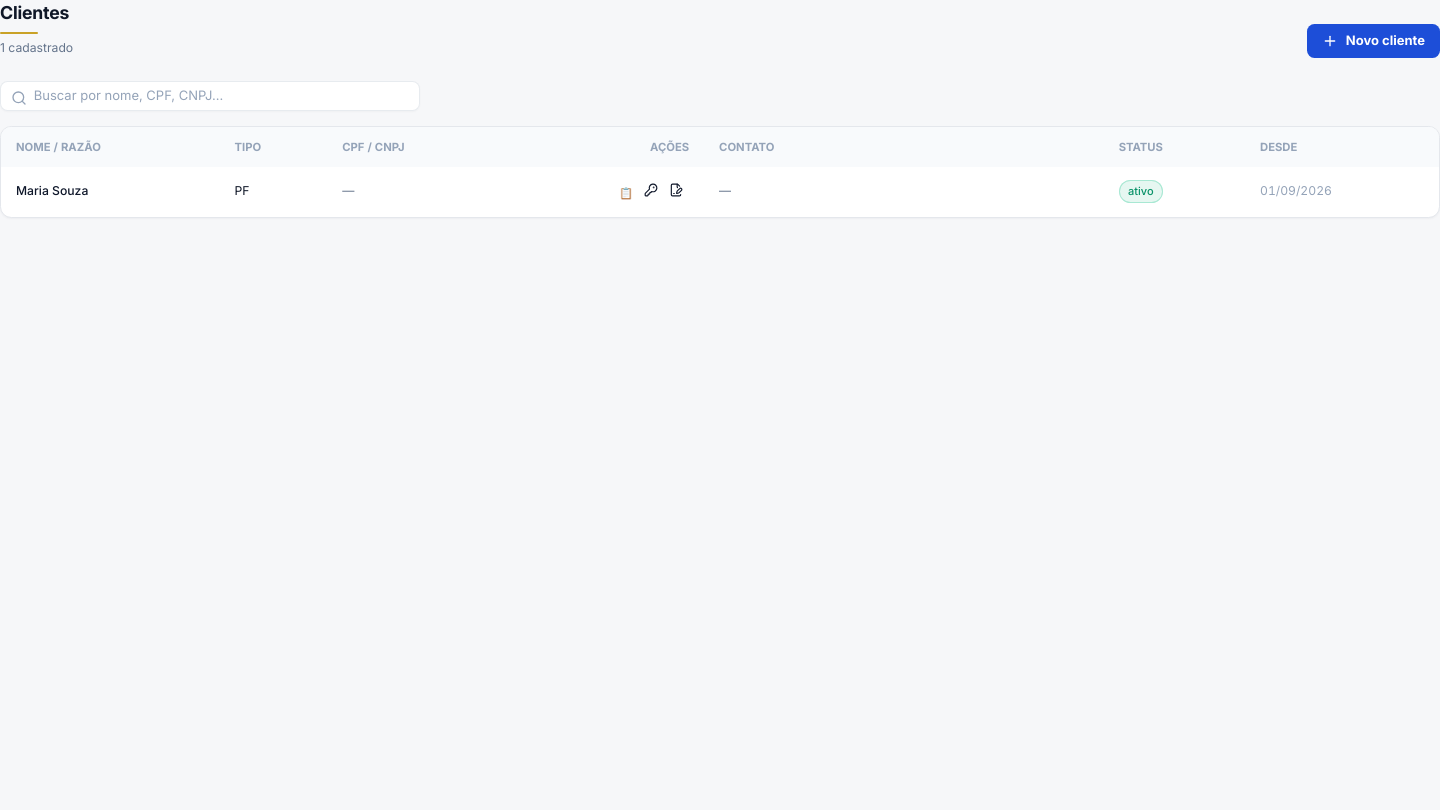
Test case: Clientes — documentos de admissão › lista os rascunhos de admissão do cliente
The width and height of the screenshot is (1440, 810).
Check: the link "Maria Souza" is shown, box [16,183,88,198]
Click the button titled "Procuração e contrato de honorários": (677, 190) [664,178,689,202]
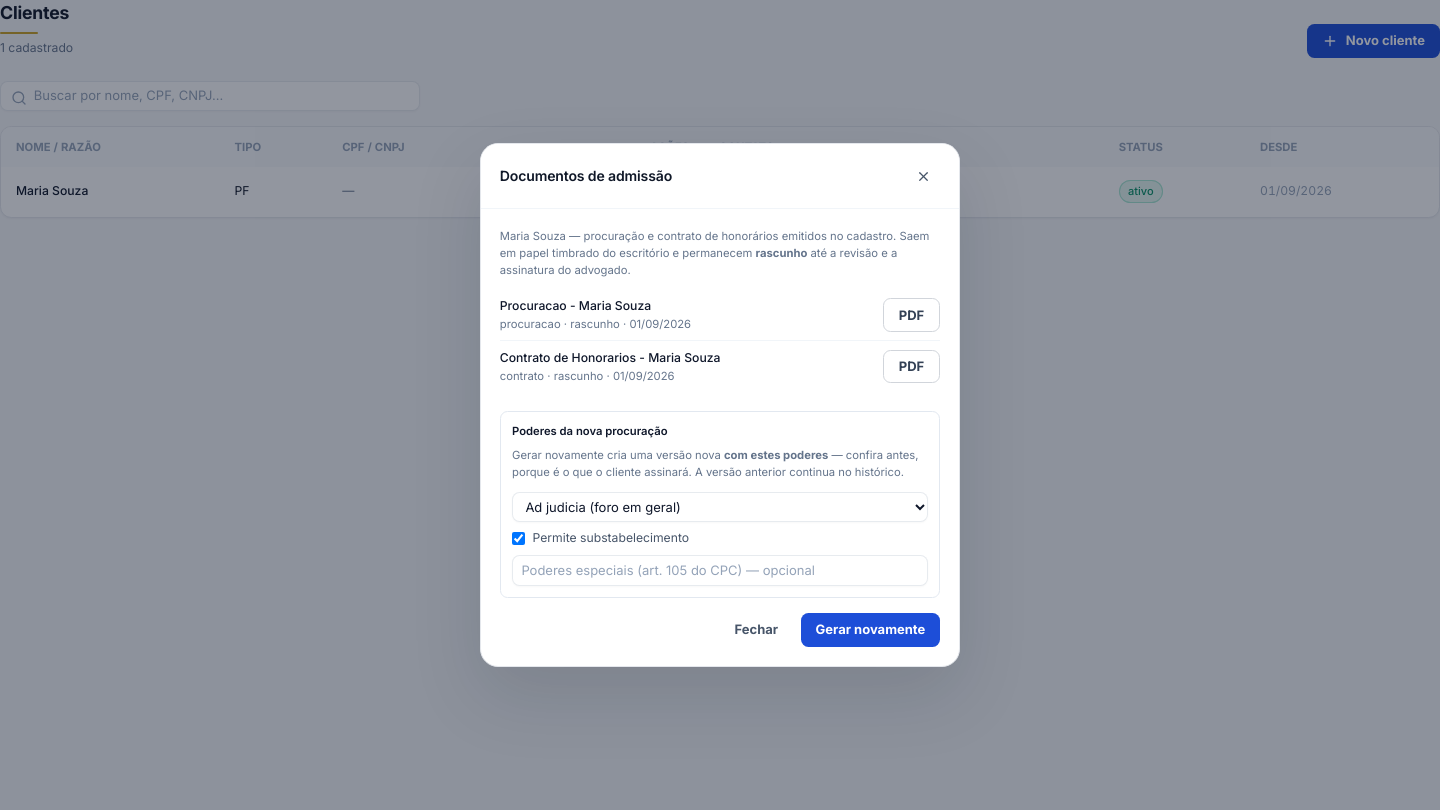
Check: the text "Procuracao - Maria Souza" is shown, box [500,298,651,313]
Check: the text "Contrato de Honorarios - Maria Souza" is shown, box [500,349,720,368]
